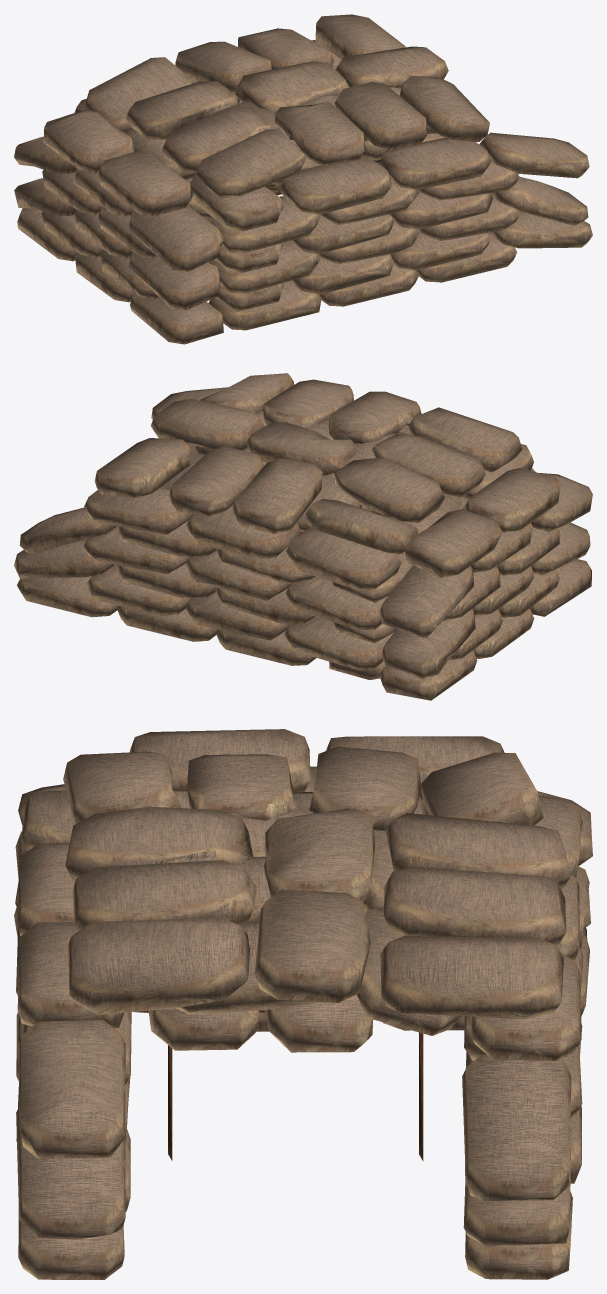
Rendered from base_sb_store.glb.
3 views of the same model, one above another, from view 1: azimuth 30°, elevation 25°; view 2: azimuth 150°, elevation 25°; view 3: azimuth 270°, elevation 25° (orthographic). The views are drawn at different scales.
Visible parts, largest first — view 1: base_sb_store; view 2: base_sb_store; view 3: base_sb_store.
Boxes of the visible parts, bbox=[...] form: base_sb_store: bbox=[14, 14, 592, 344]; base_sb_store: bbox=[14, 373, 592, 700]; base_sb_store: bbox=[14, 729, 592, 1279].
Size of the model in its own units: 8.59 by 3.1 by 5.97.
Materials: 1 (1 with a texture image).
